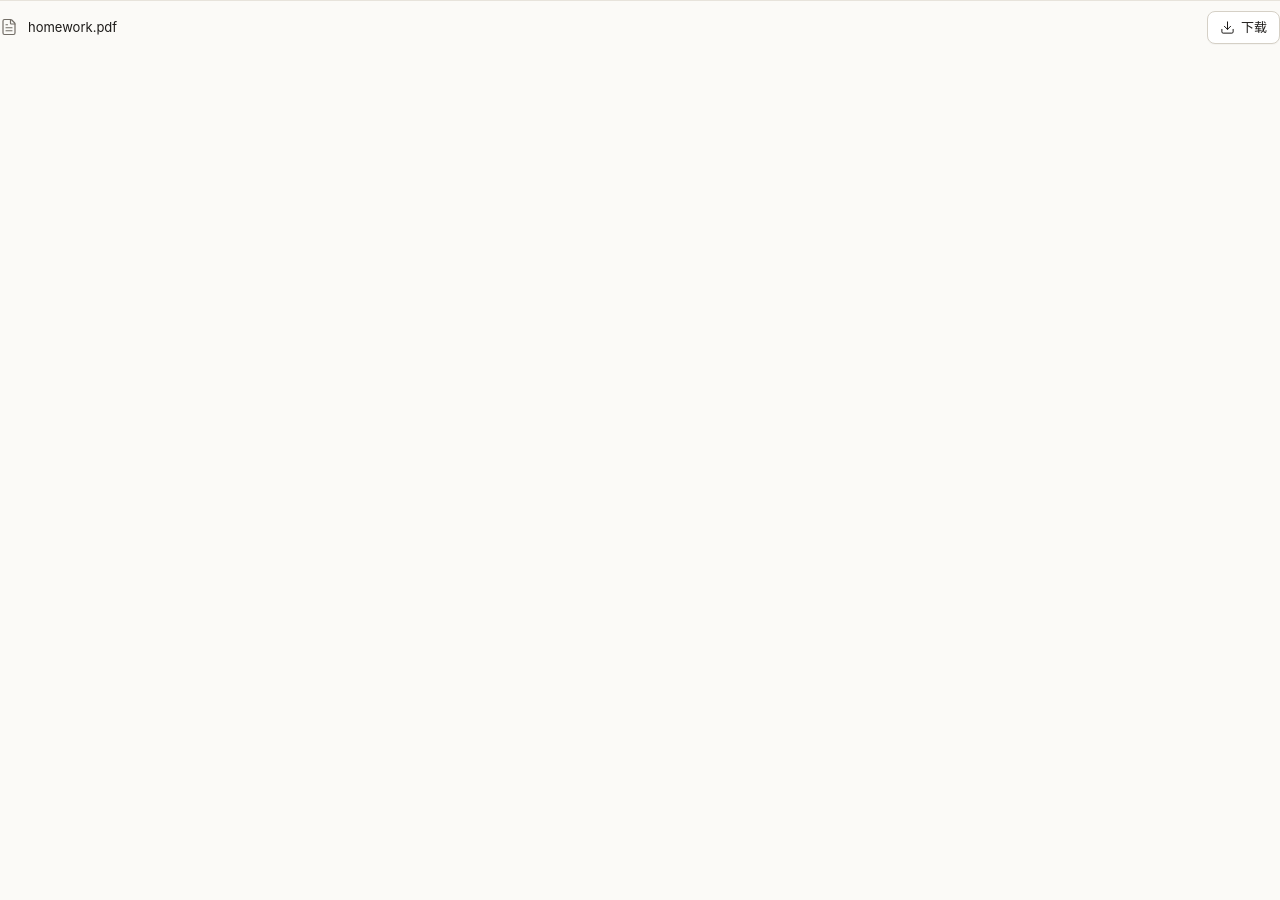
it: shows download failure with a retry instead of a blank preview
The image size is (1280, 900).
Click the button "homework.pdf" at (73, 27), box [28,15,1197,40]
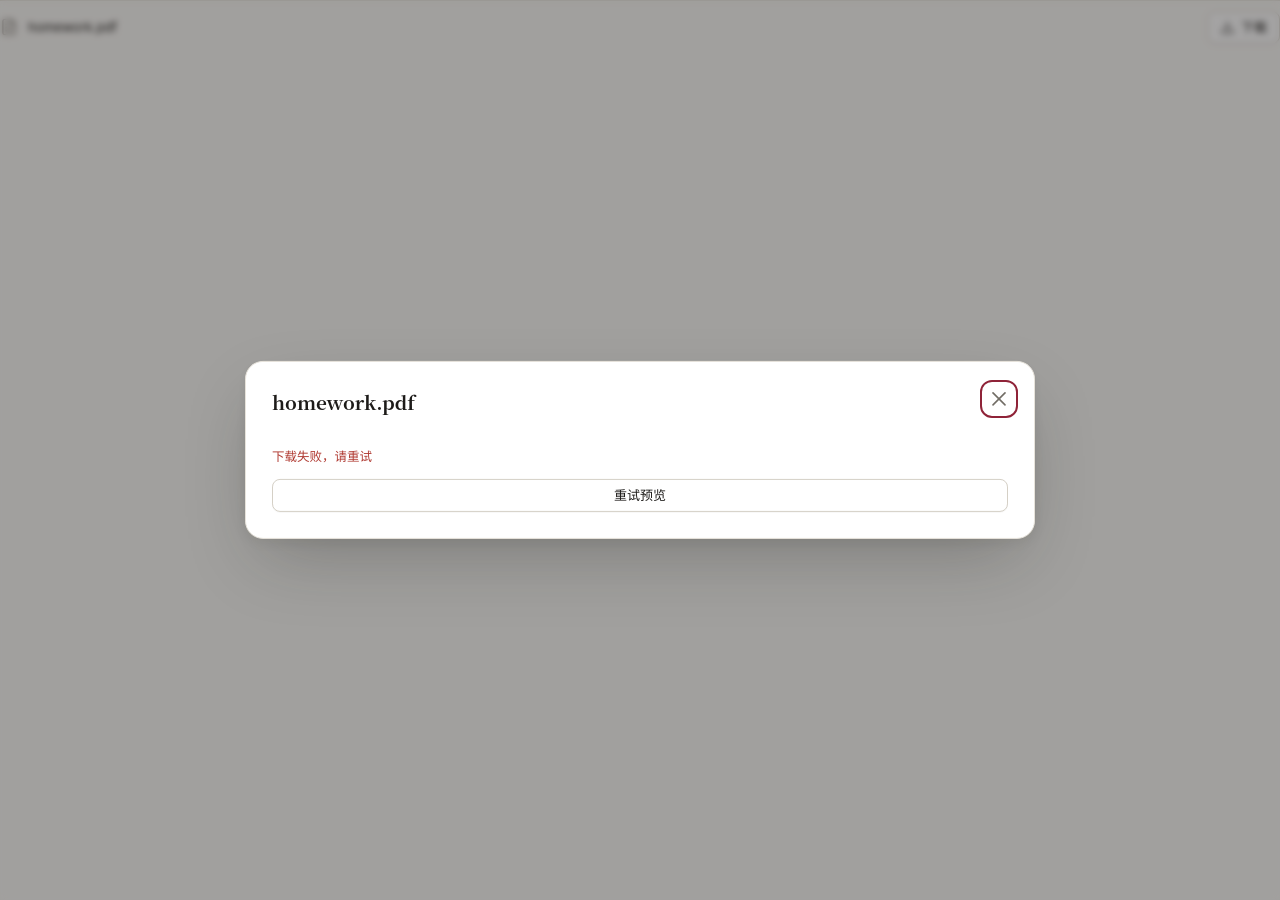
Expected: the message reads "下载失败，请重试", [272,449,372,464]
Expected: the button "重试预览" is enabled, [272,479,1008,512]
